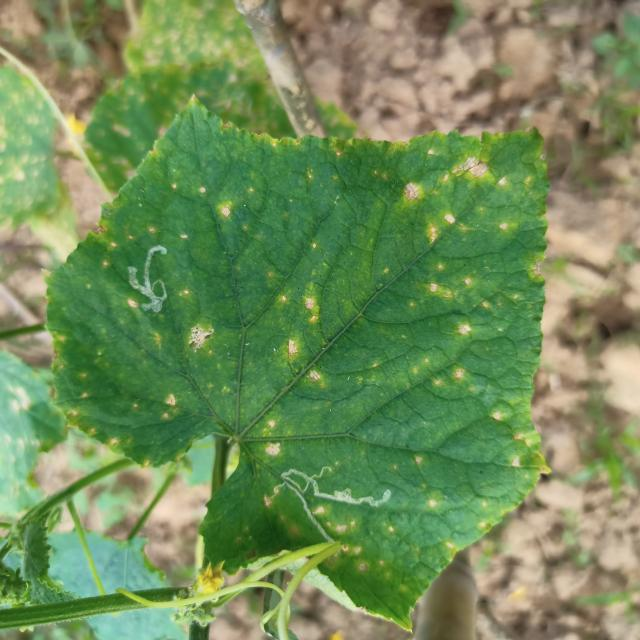disease_cucumber: (367, 109, 616, 489), (74, 162, 239, 416), (242, 407, 466, 592), (263, 272, 346, 389)
